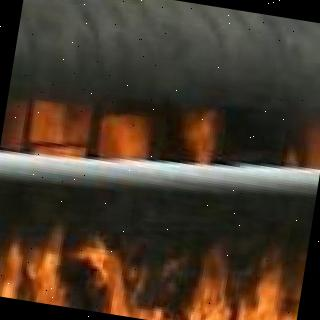fire: (0, 193, 309, 320), (0, 98, 191, 184), (169, 94, 320, 170)
